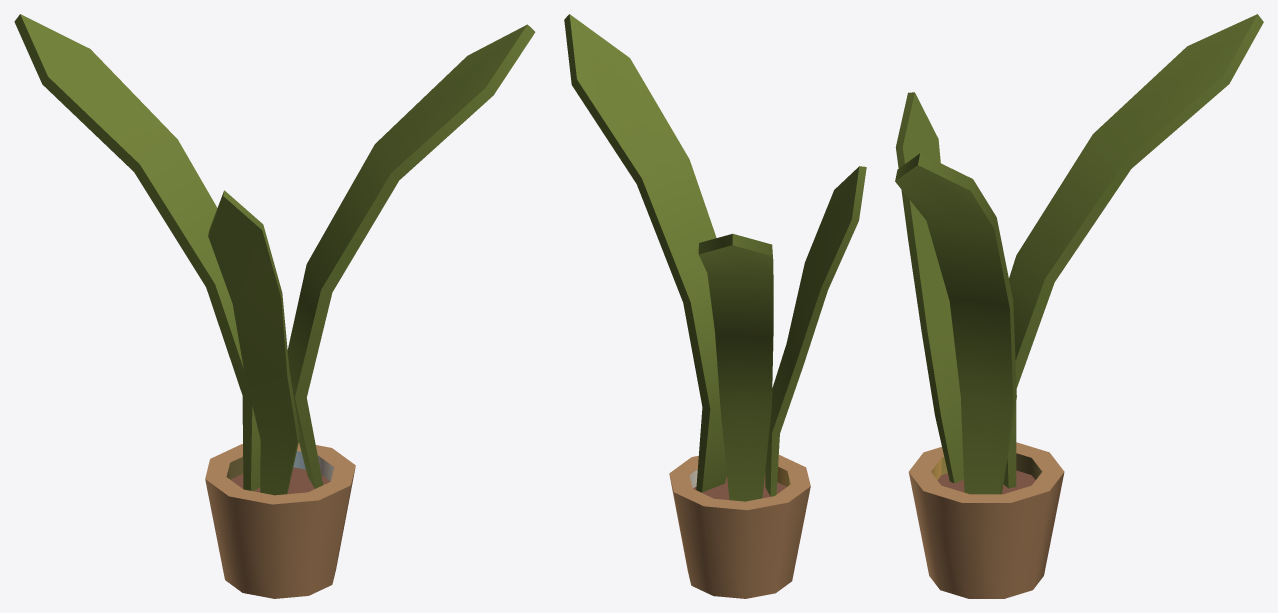
Rendered from Flowerpot 1.fbx.
The picture shows the model from 3 angles, left to right: view 1: azimuth 30°, elevation 25°; view 2: azimuth 150°, elevation 25°; view 3: azimuth 270°, elevation 25°; orthographic projection. The views are drawn at different scales.
Visible parts, largest first — view 1: Flowerpot 1; view 2: Flowerpot 1; view 3: Flowerpot 1.
Boxes of the visible parts, x1,y1,x2,y2 form: Flowerpot 1: [14, 14, 535, 598]; Flowerpot 1: [564, 14, 866, 598]; Flowerpot 1: [895, 14, 1263, 598].
Bounding box in the file's own units: 170 × 237 × 150.
